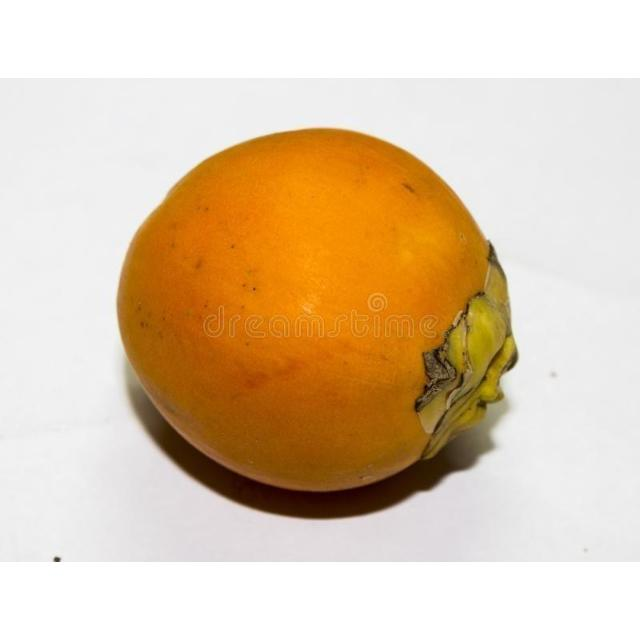good: (115, 128, 519, 496)
